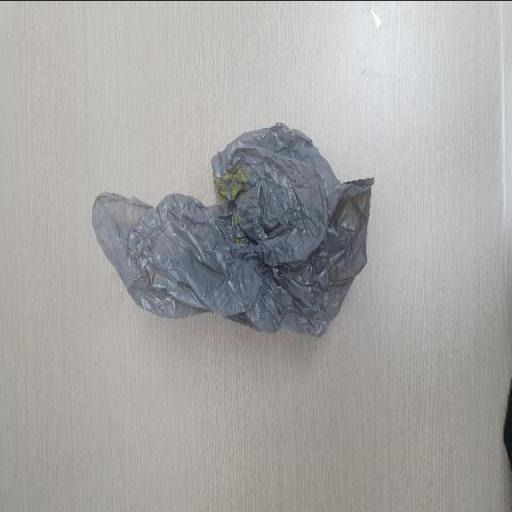plastic-bag: (87, 121, 380, 345)
